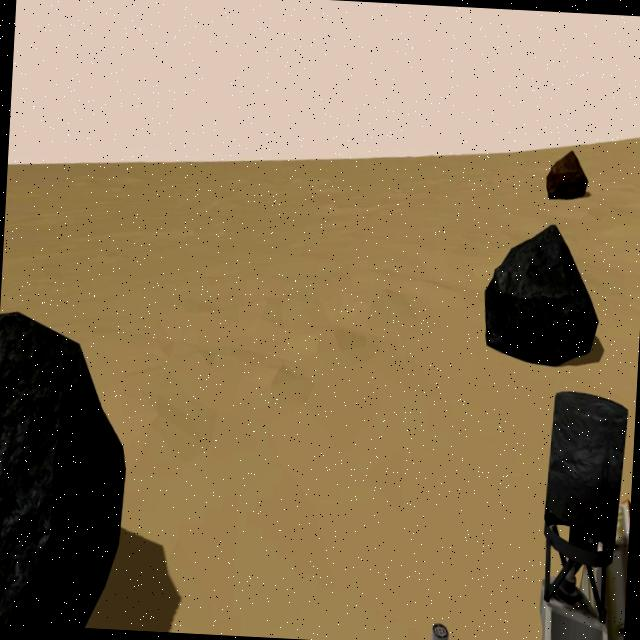rock: (0, 308, 133, 630), (482, 220, 604, 368), (546, 150, 590, 201)
